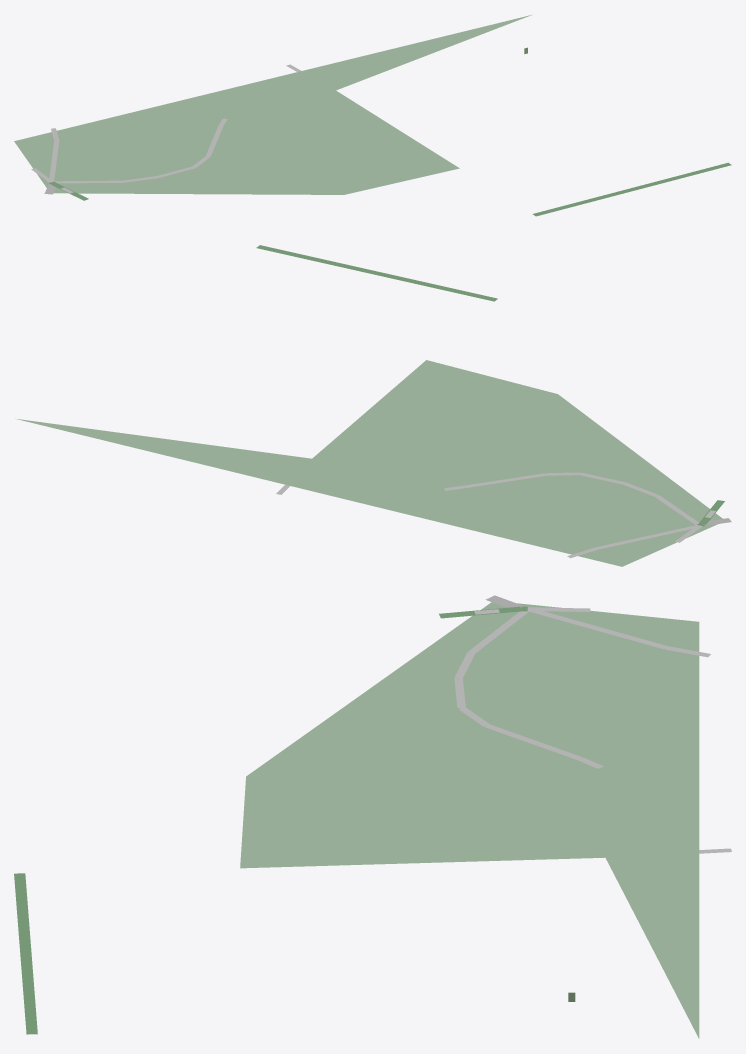
3 renders of one model, top to bottom at view 1: azimuth 30°, elevation 25°; view 2: azimuth 150°, elevation 25°; view 3: azimuth 270°, elevation 25°, orthographic. The views are drawn at different scales.
Bounding box in the file's own units: 370 × 3.99 × 253.
